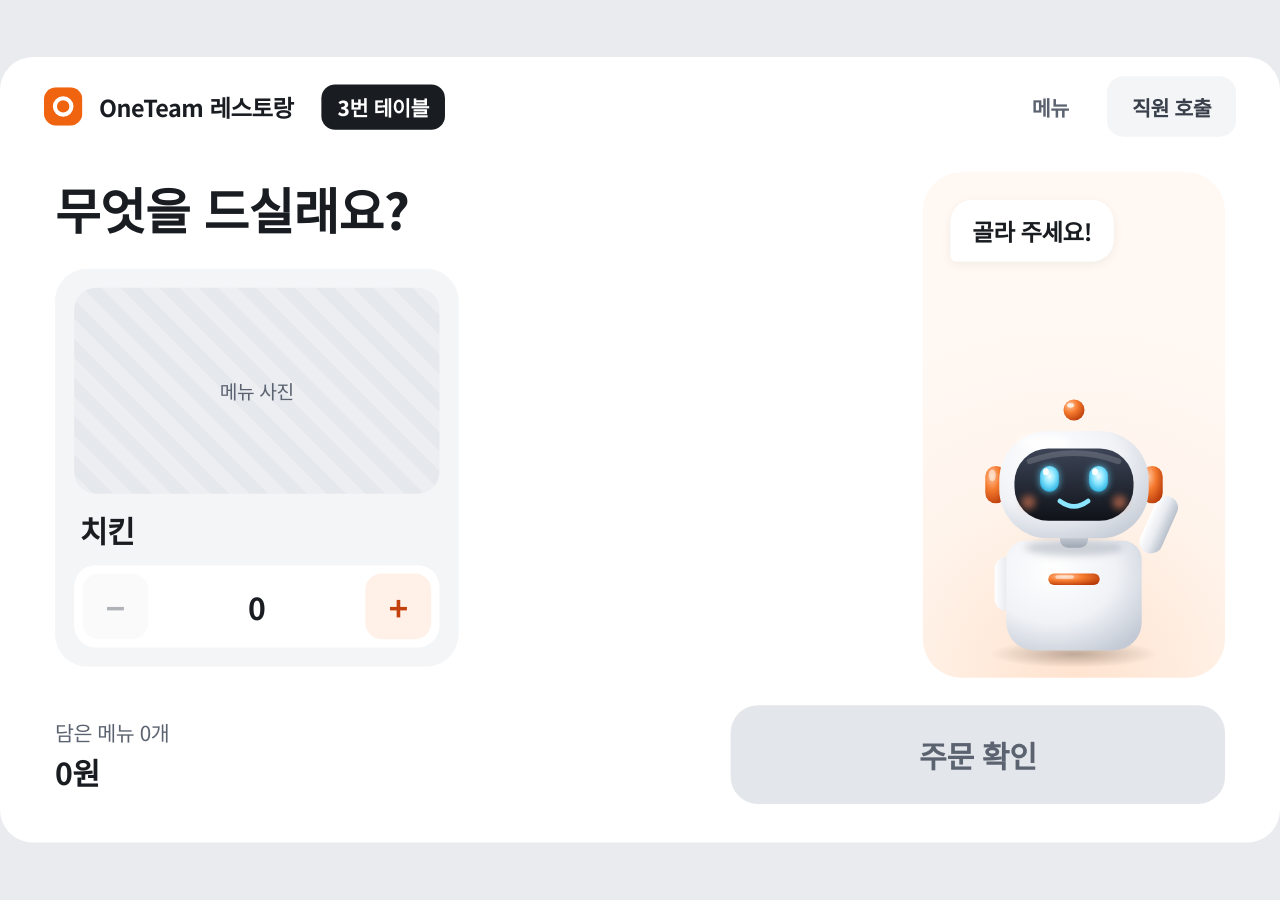
Test: 테이블 태블릿 흐름 › 가격 정보가 없으면 합계를 보류한다 (WEB-03)
The image size is (1280, 900).
Click the button named "치킨 더하기" at (398, 607), box [365,574,431,640]
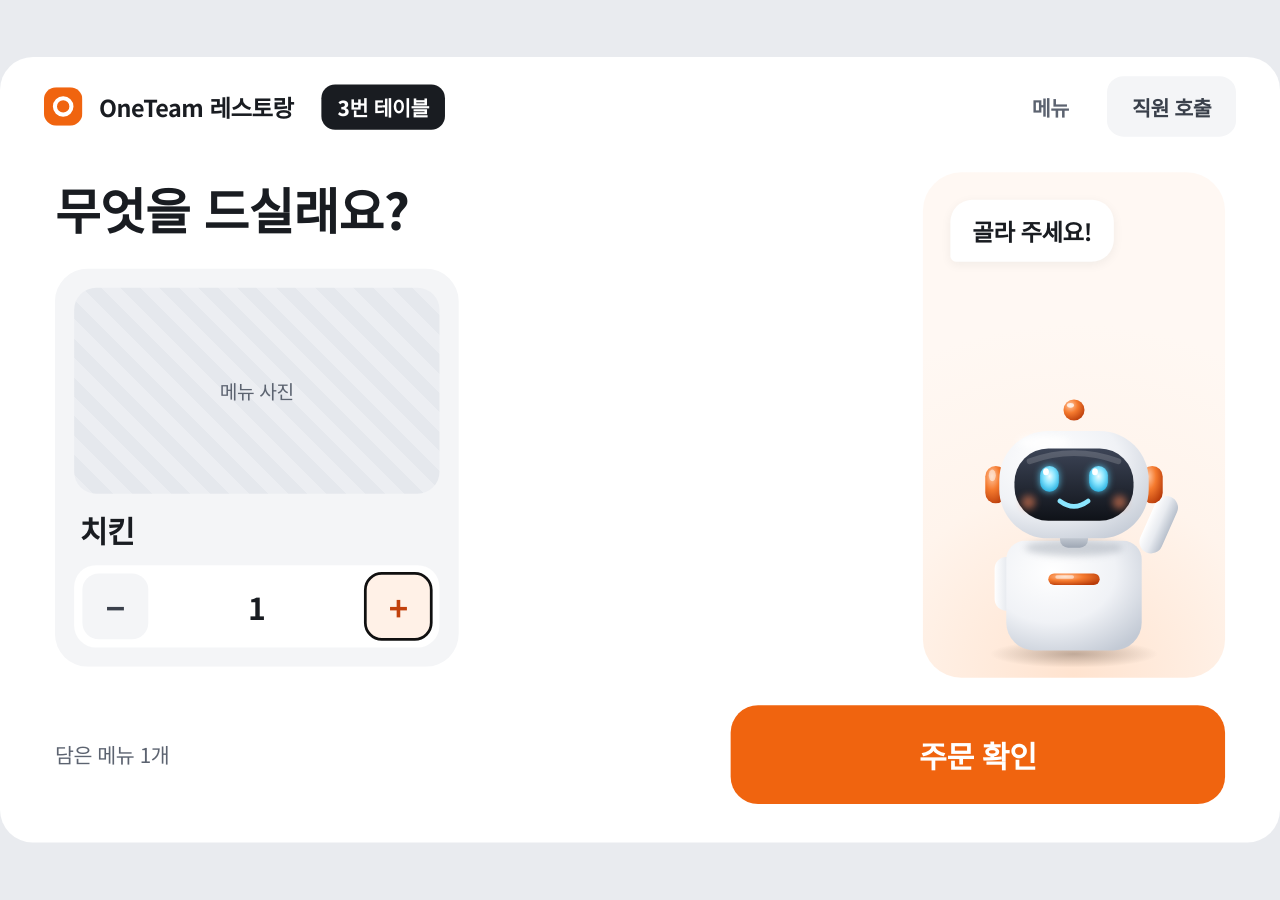
Click the button "주문 확인" at (978, 755), box [731,705,1225,804]
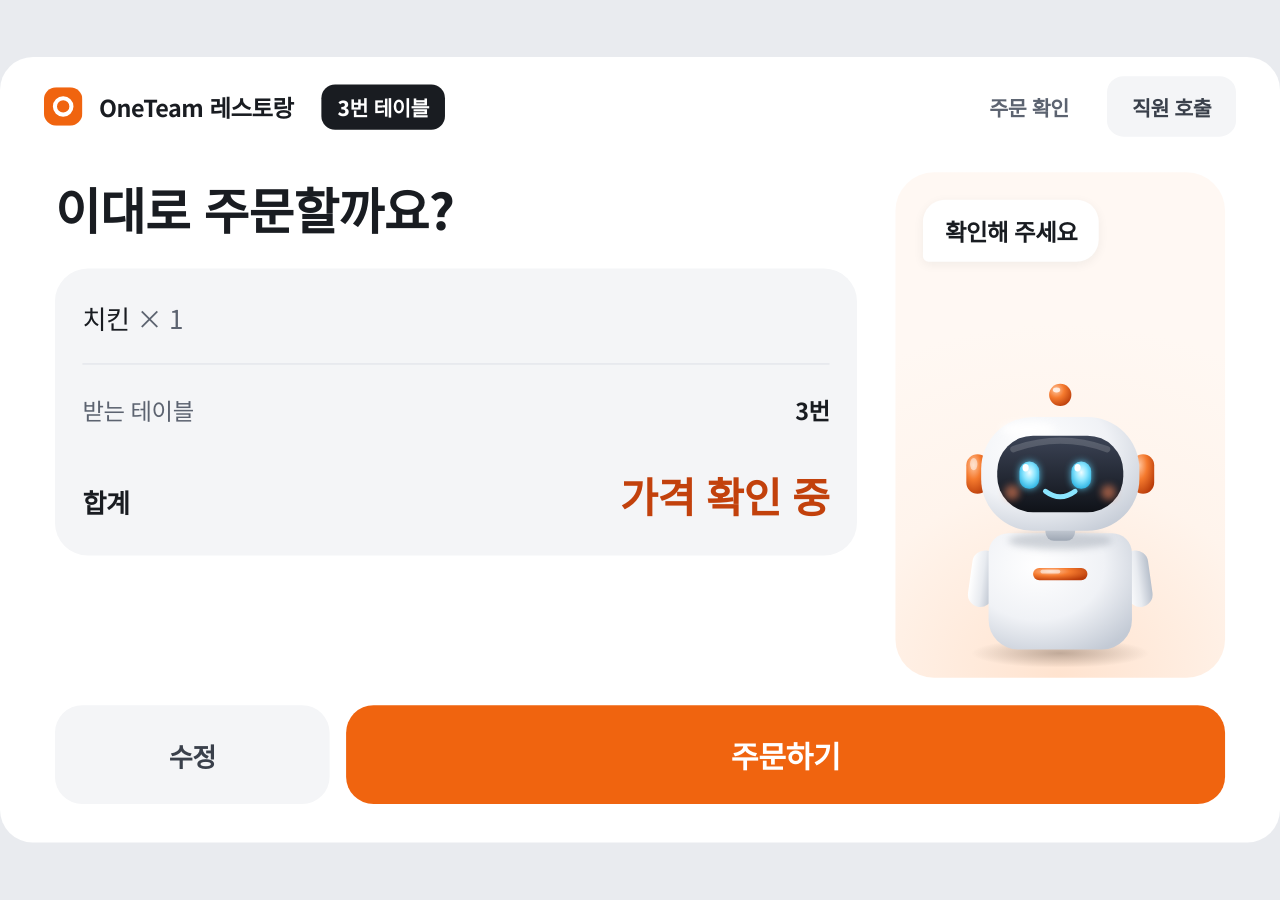
Expected: the text "가격 확인 중" is shown, [620,465,830,526]
